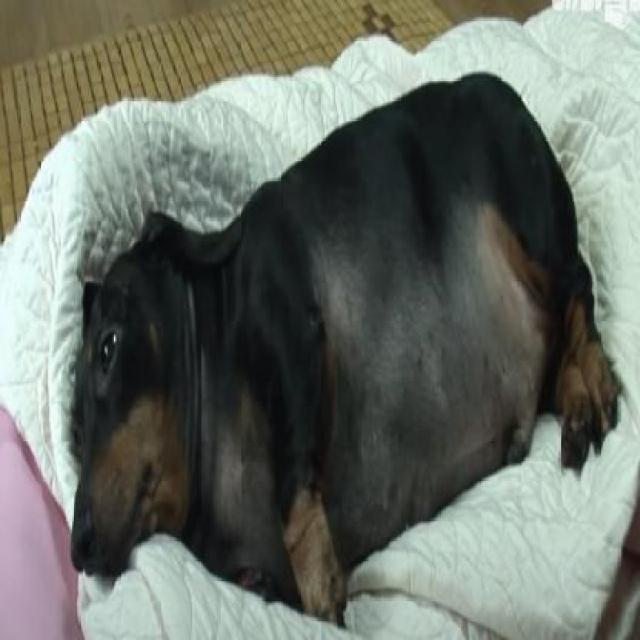Dog: (65, 54, 620, 632)
